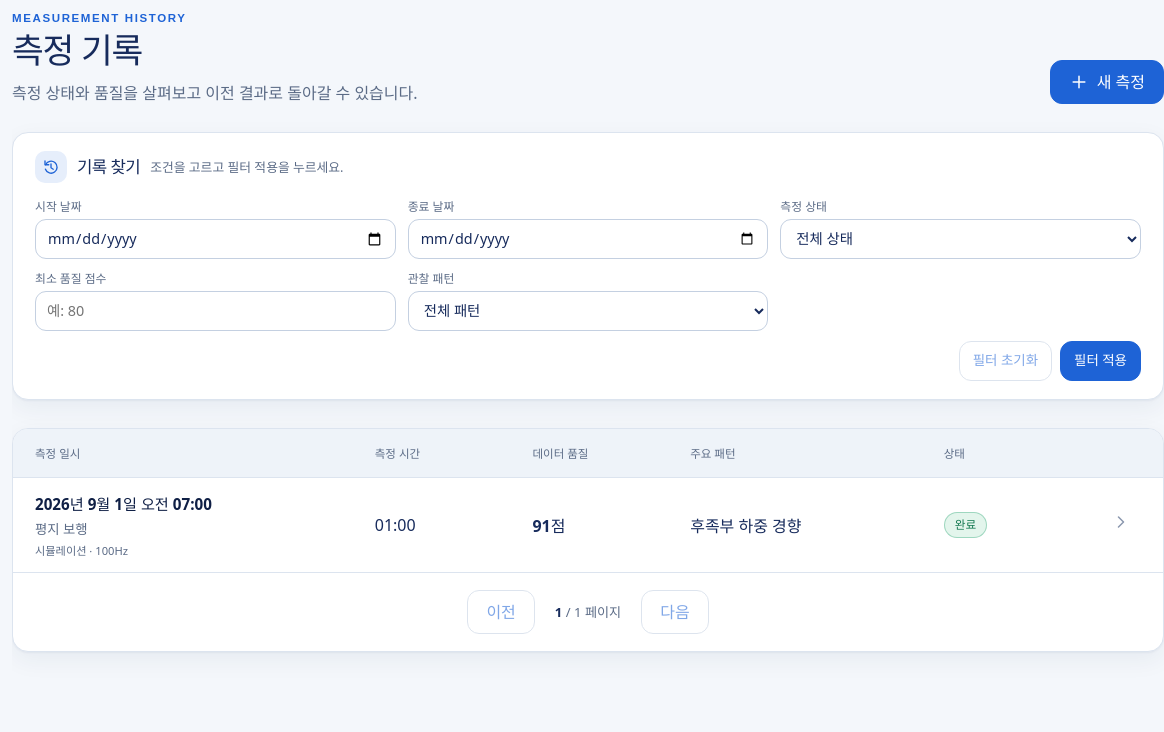
Test case: HistoryPage › 날짜·최소 품질·rule-v1.2.0 패턴 6종 필터를 전송하고 주요 패턴·sourceType을 표시한다
This screenshot has width=1164, height=732.
Expected: the text "후족부 하중 경향" is shown, [690,515,802,537]
Expected: the text "시뮬레이션 · 100Hz" is shown, [35,543,128,558]
Type "2026-09-01" into the date field labelled "시작 날짜" at (215, 239), box [35,219,396,259]
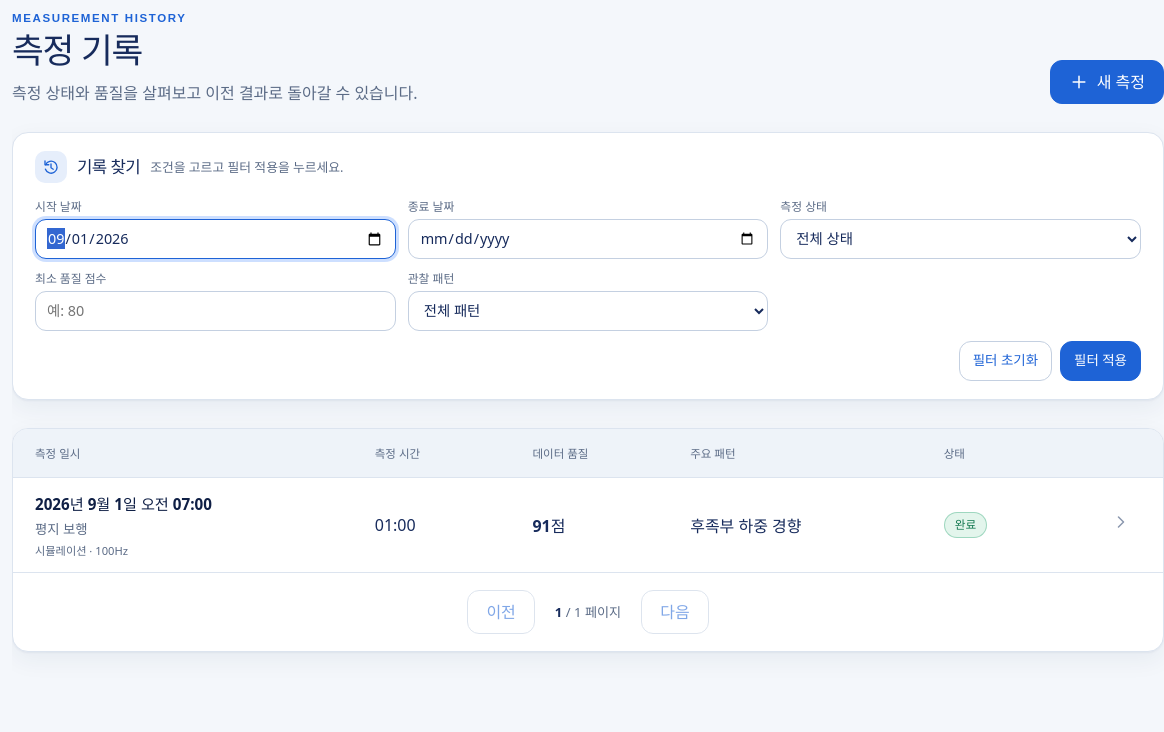
Type "2026-09-02" into the date field labelled "종료 날짜" at (588, 239), box [408,219,768,259]
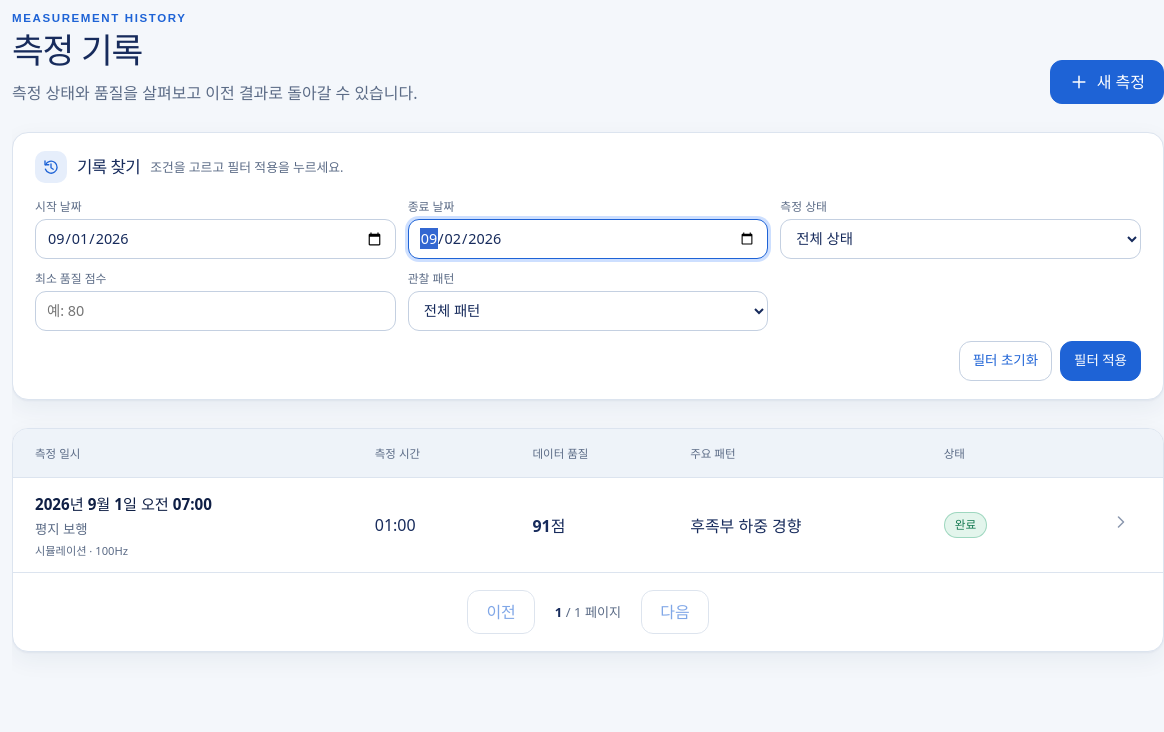
Type "80" into the number field labelled "최소 품질 점수" at (215, 311), box [35,291,396,331]
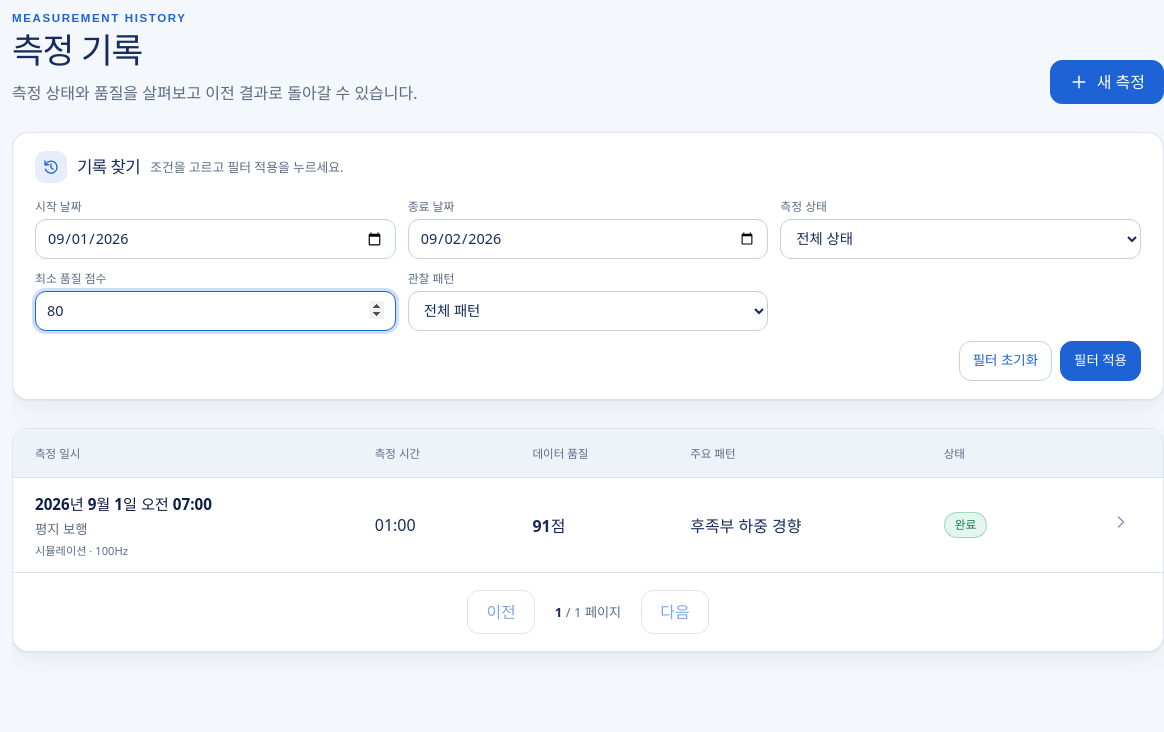
Select "엄지 신호 낮음" in the dropdown labelled "관찰 패턴" at (588, 311), box [408,291,768,331]
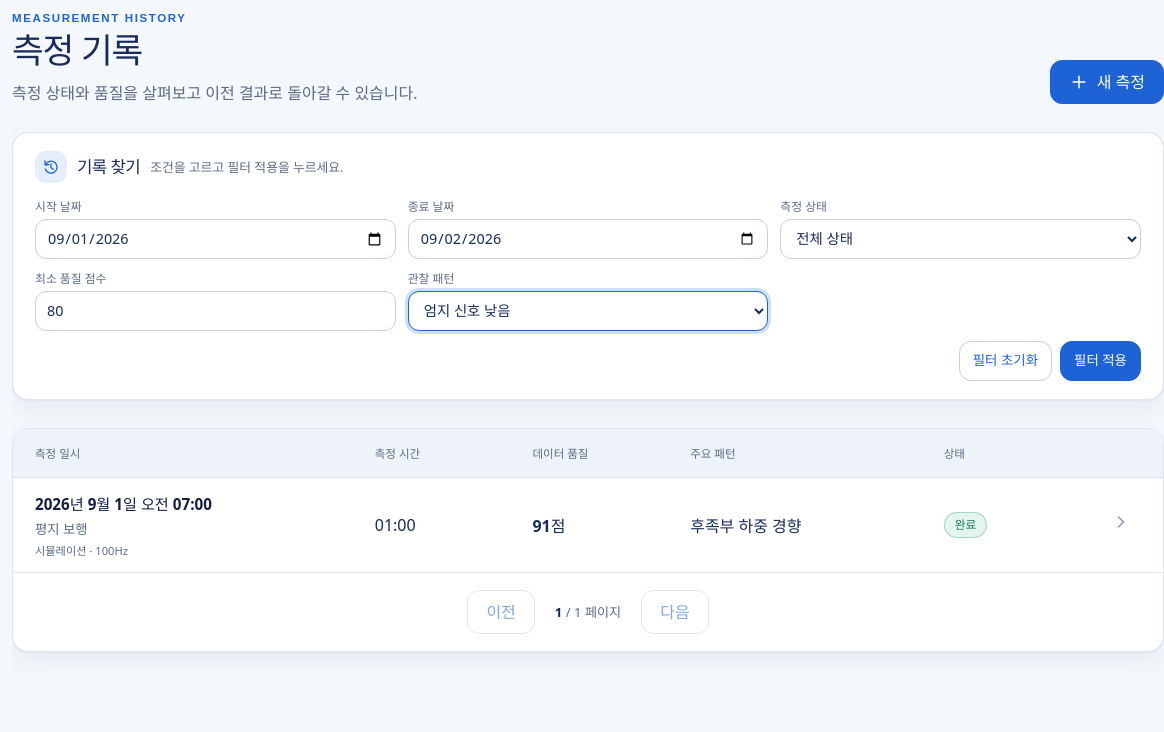
Click the button "필터 적용" at (1100, 361), box [1060,341,1141,381]
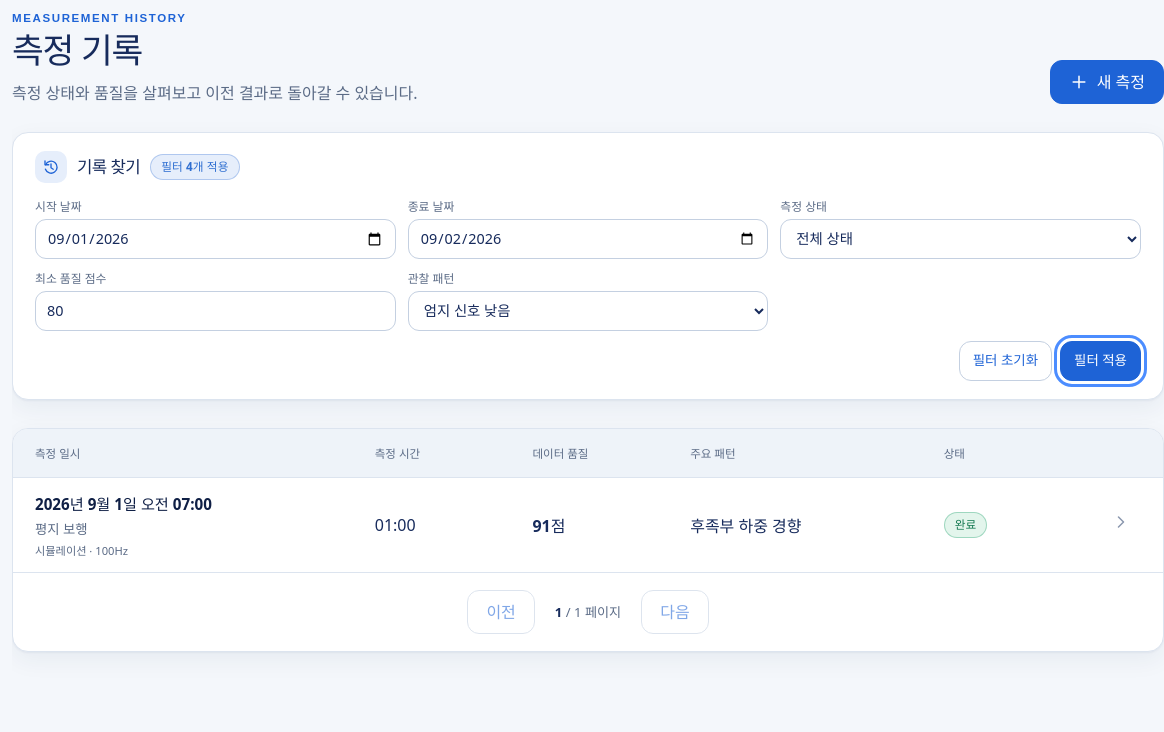
Result: the text "필터 4개 적용" is shown at [150,154,240,180]
